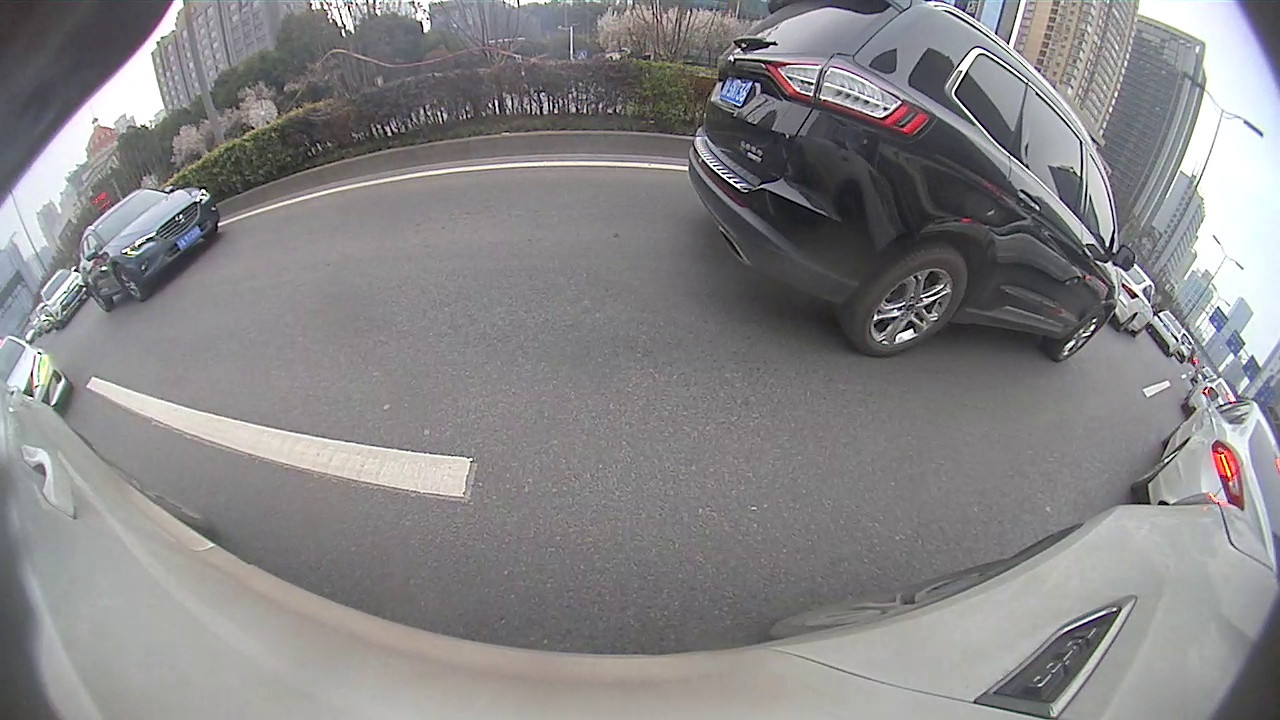car: (686, 1, 1137, 362), (1128, 387, 1278, 577), (78, 187, 221, 313), (1108, 258, 1153, 337), (37, 266, 91, 328), (1147, 310, 1188, 359)
front: (1055, 305, 1108, 358), (113, 266, 143, 301)
rear: (848, 250, 968, 356)
